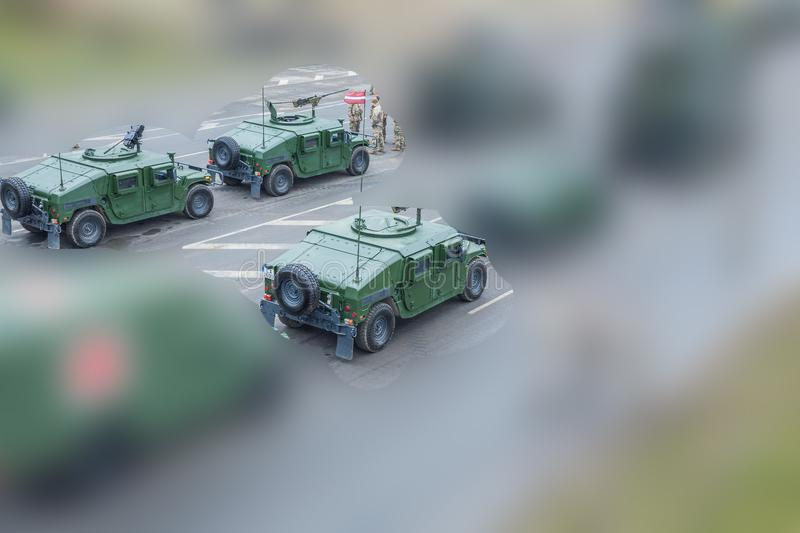armored_car: (257, 207, 495, 354), (0, 133, 216, 248), (206, 109, 374, 200)
